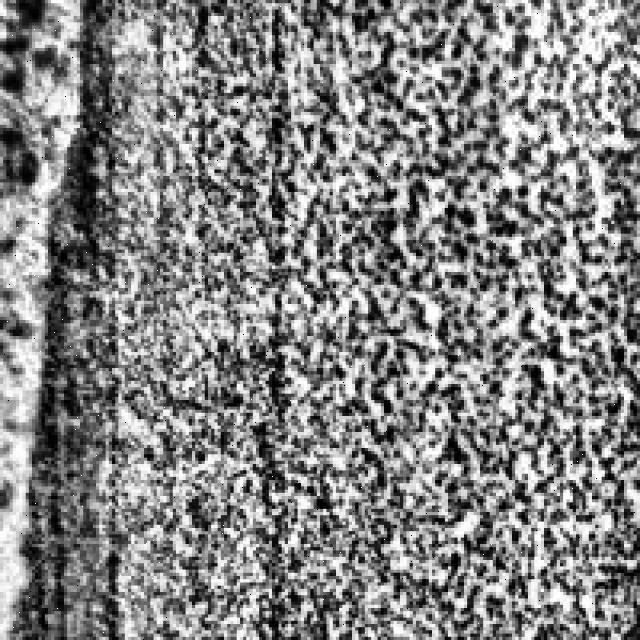Rolled_in_Scale: (109, 0, 637, 637)
